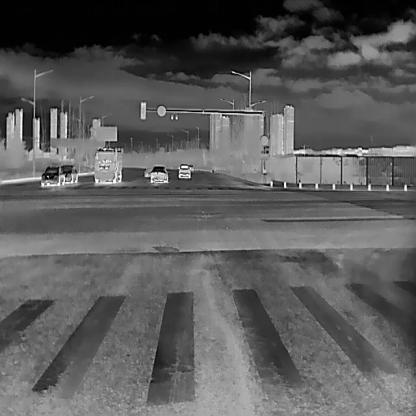car: (93, 147, 123, 184), (41, 164, 65, 185), (150, 164, 168, 183), (59, 164, 77, 183), (177, 162, 190, 178), (188, 162, 193, 170)
